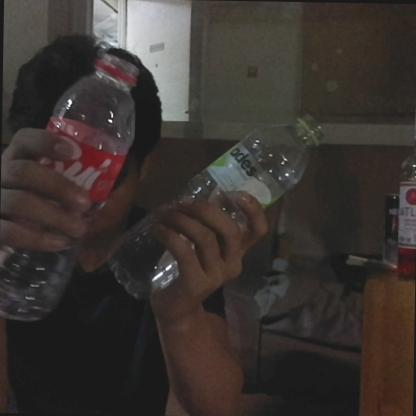plastic_bottles: (114, 99, 328, 301), (3, 53, 140, 320)
